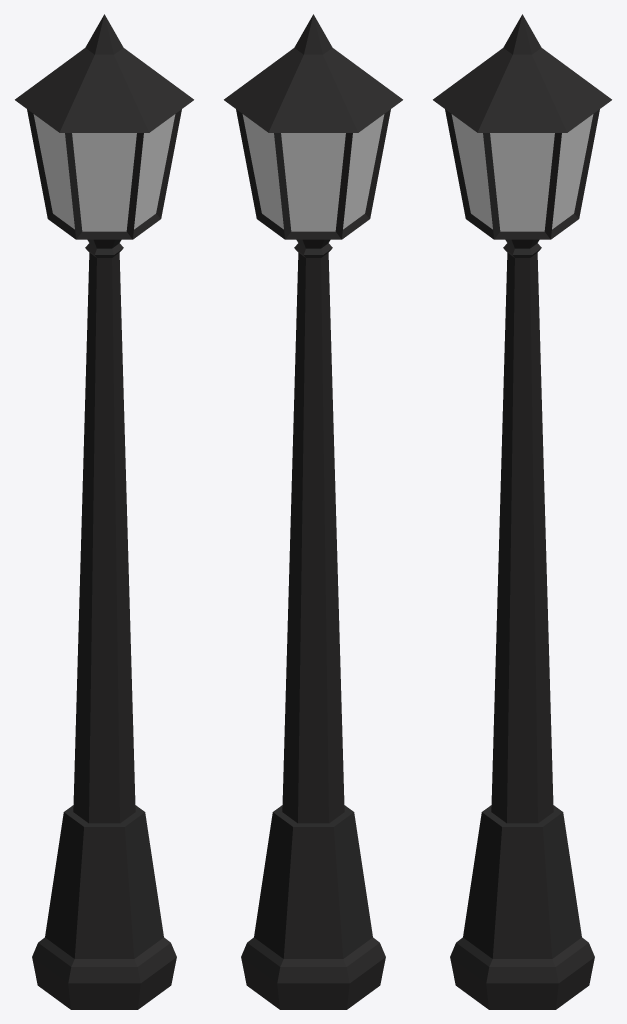
The model's file is lamppost.fbx.
3 renders of one model, left to right at view 1: azimuth 30°, elevation 25°; view 2: azimuth 150°, elevation 25°; view 3: azimuth 270°, elevation 25°, orthographic.
Parts seen in each view (by area): view 1: lamppost; view 2: lamppost; view 3: lamppost.
Part boxes in pixels (x1,y1,x2,y2): lamppost: (15,14,193,1009); lamppost: (224,14,402,1009); lamppost: (433,14,611,1009).
Size of the model in its own units: 0.5427 by 3.73 by 0.6266.
